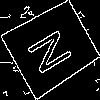N: (26, 22, 81, 77)
